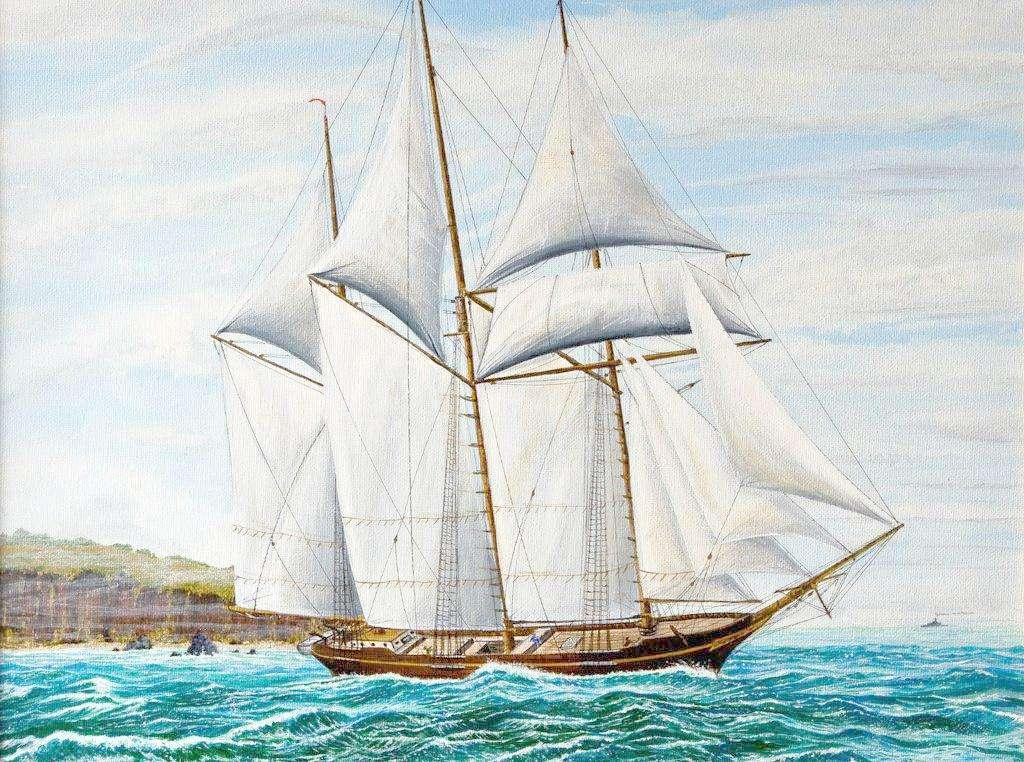fanchuan: (206, 1, 902, 681)
